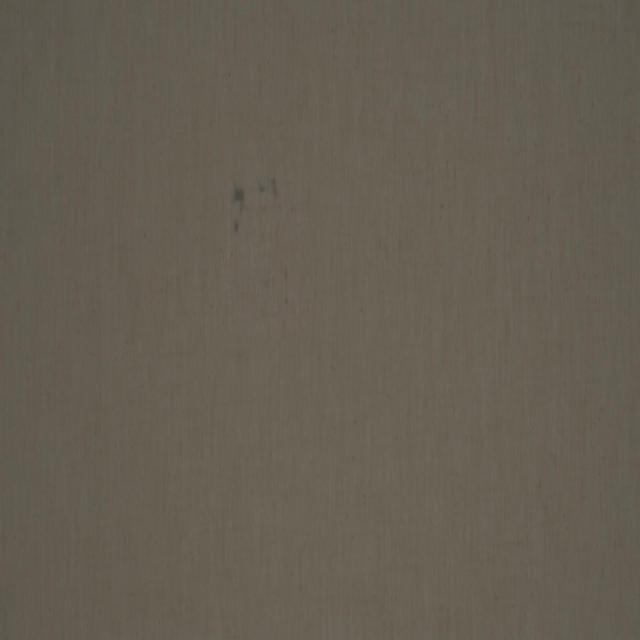dirty: (230, 185, 247, 208), (270, 177, 279, 198), (258, 178, 264, 194), (232, 224, 240, 232)
